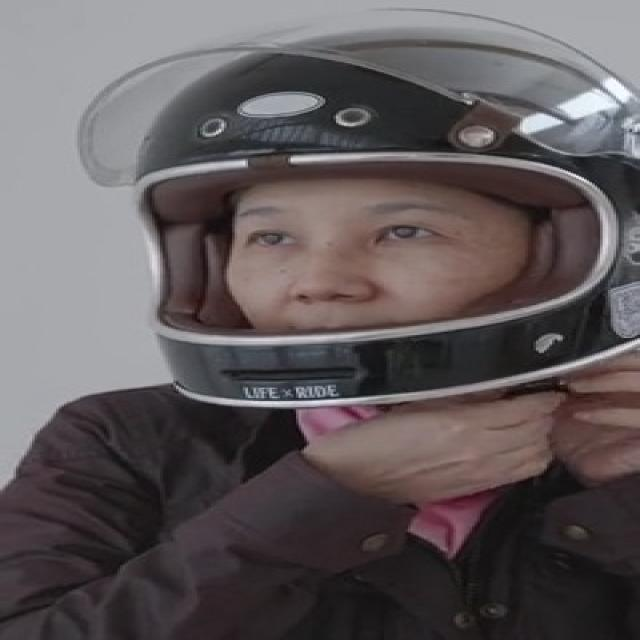Helmet_Wearer: (82, 19, 640, 389)
Person: (0, 10, 640, 640)
